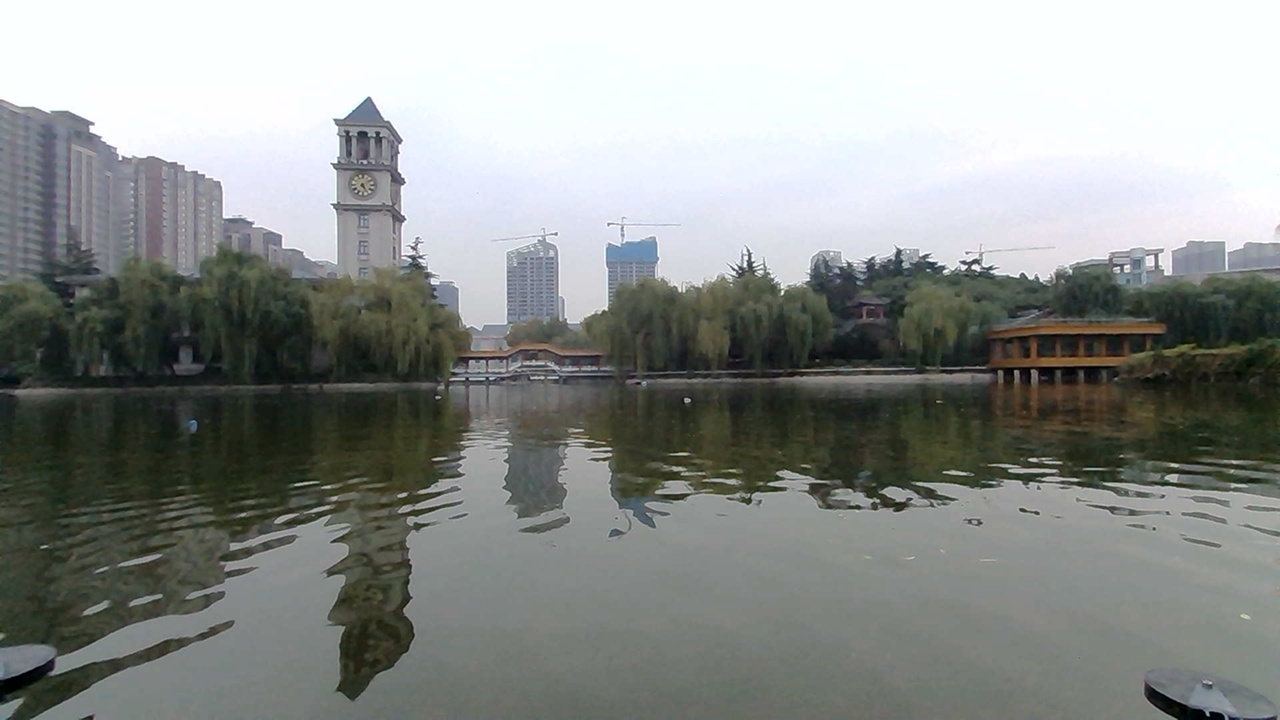bottle: (666, 387, 709, 411), (174, 414, 208, 436)
